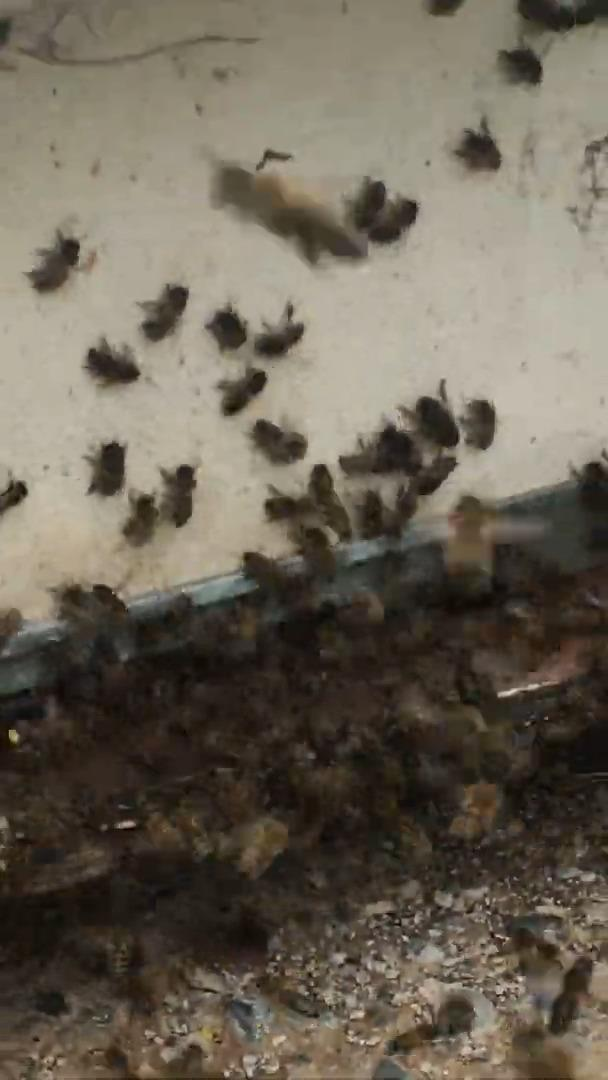worker-bee: (211, 160, 367, 265), (443, 495, 543, 591), (351, 179, 418, 246), (399, 379, 459, 448), (307, 463, 352, 541), (549, 956, 593, 1034), (25, 231, 79, 292), (139, 284, 188, 342), (249, 418, 307, 467), (254, 302, 304, 357), (84, 338, 140, 385), (217, 366, 266, 416), (454, 118, 501, 170), (160, 464, 196, 528), (86, 440, 126, 497), (241, 551, 291, 593), (205, 304, 247, 352), (122, 492, 159, 546), (460, 398, 496, 450), (264, 489, 317, 524), (414, 454, 457, 497), (299, 526, 334, 576), (498, 45, 542, 84), (0, 479, 28, 517)
